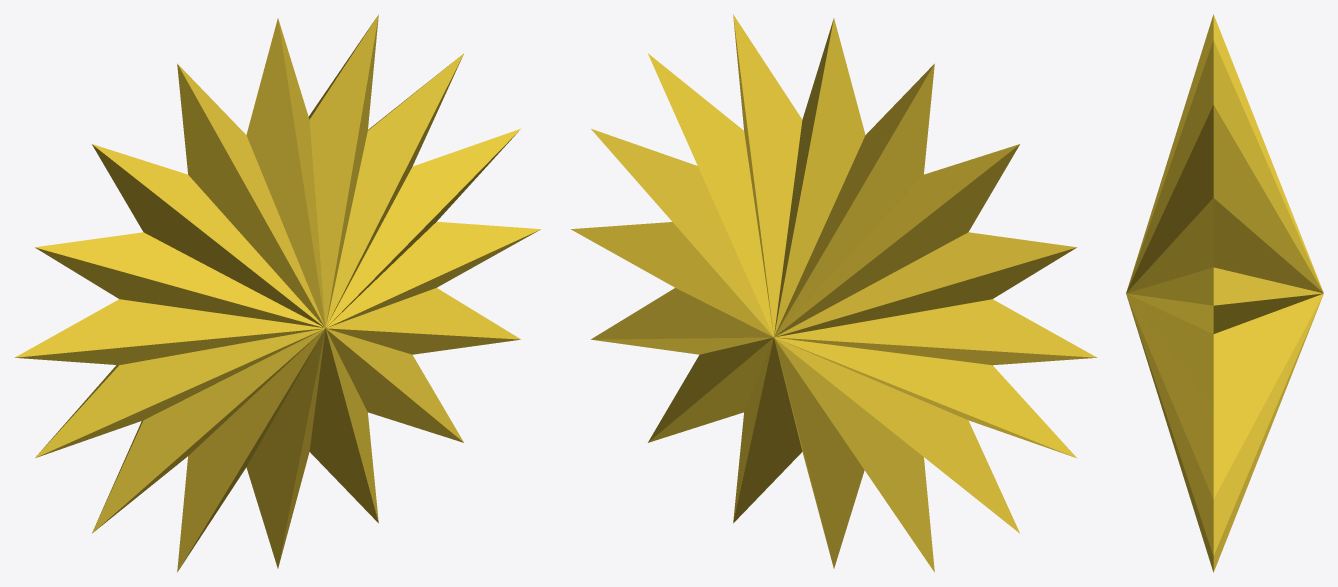
Rendered from star_16.fbx.
The picture shows the model from 3 angles, left to right: view 1: azimuth 30°, elevation 25°; view 2: azimuth 150°, elevation 25°; view 3: azimuth 270°, elevation 25°; orthographic projection. The views are drawn at different scales.
Parts seen in each view (by area): view 1: Circle; view 2: Circle; view 3: Circle.
Part boxes in pixels (bbox=[...]): Circle: bbox=[15, 14, 540, 572]; Circle: bbox=[571, 14, 1096, 572]; Circle: bbox=[1126, 14, 1323, 572].
Size of the model in its own units: 200 by 200 by 70.76.
